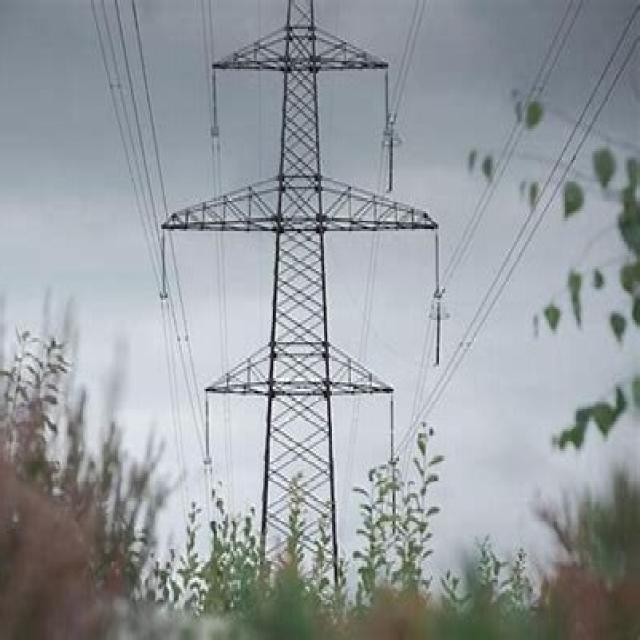utility poles: (174, 366, 444, 610)
